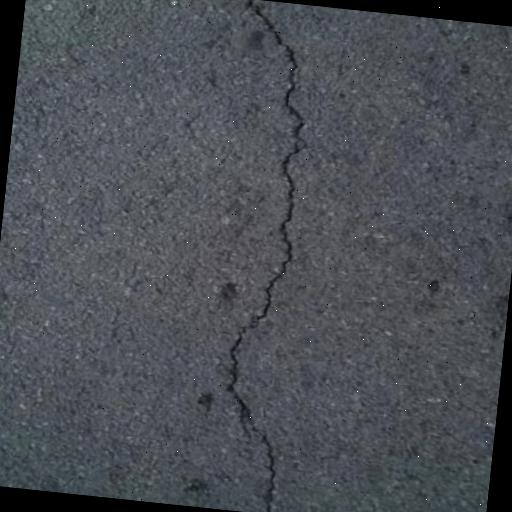spalling: (212, 0, 320, 507)
